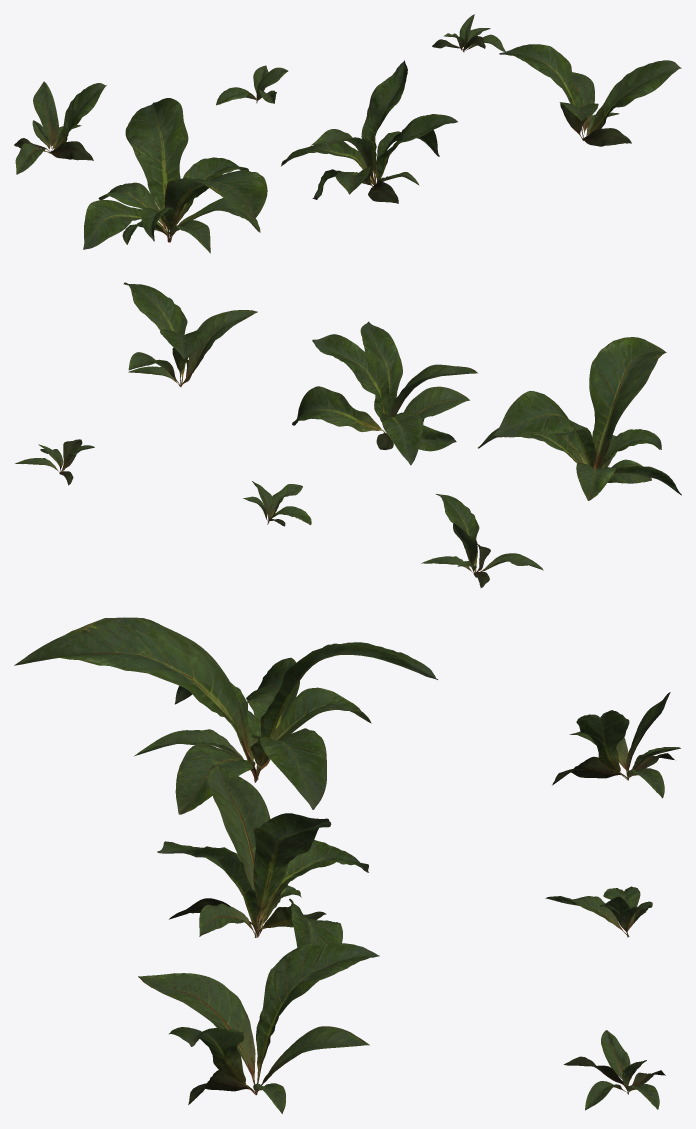
The model's file is anthurium_botany_01-detail-lod.glb.
The picture shows the model from 3 angles, top to bottom: view 1: azimuth 30°, elevation 25°; view 2: azimuth 150°, elevation 25°; view 3: azimuth 270°, elevation 25°; orthographic projection. The views are drawn at different scales.
Visible parts, largest first — view 1: anthurium_botany_01_a, anthurium_botany_01_b, anthurium_botany_01_c, anthurium_botany_04_d, anthurium_botany_05_e, anthurium_botany_06_f; view 2: anthurium_botany_01_a, anthurium_botany_01_b, anthurium_botany_01_c, anthurium_botany_04_d, anthurium_botany_05_e, anthurium_botany_06_f; view 3: anthurium_botany_01_a, anthurium_botany_01_b, anthurium_botany_01_c, anthurium_botany_04_d, anthurium_botany_06_f, anthurium_botany_05_e.
Part boxes in pixels (left/top/right/bottom): anthurium_botany_01_a: left=83, top=98, right=267, bottom=253; anthurium_botany_01_b: left=281, top=60, right=457, bottom=203; anthurium_botany_01_c: left=499, top=44, right=681, bottom=146; anthurium_botany_04_d: left=14, top=81, right=106, bottom=174; anthurium_botany_05_e: left=216, top=65, right=288, bottom=105; anthurium_botany_06_f: left=432, top=14, right=505, bottom=52; anthurium_botany_01_a: left=478, top=337, right=681, bottom=500; anthurium_botany_01_b: left=292, top=321, right=477, bottom=465; anthurium_botany_01_c: left=123, top=282, right=257, bottom=386; anthurium_botany_04_d: left=421, top=494, right=543, bottom=588; anthurium_botany_05_e: left=243, top=481, right=311, bottom=526; anthurium_botany_06_f: left=15, top=439, right=94, bottom=485; anthurium_botany_01_a: left=14, top=617, right=437, bottom=814; anthurium_botany_01_b: left=157, top=763, right=368, bottom=981; anthurium_botany_01_c: left=138, top=942, right=379, bottom=1113; anthurium_botany_04_d: left=552, top=692, right=680, bottom=798; anthurium_botany_06_f: left=563, top=1030, right=665, bottom=1110; anthurium_botany_05_e: left=545, top=886, right=652, bottom=937.
Size of the model in its own units: 2.8 by 0.4997 by 1.8.
1 material, 1 textured.
